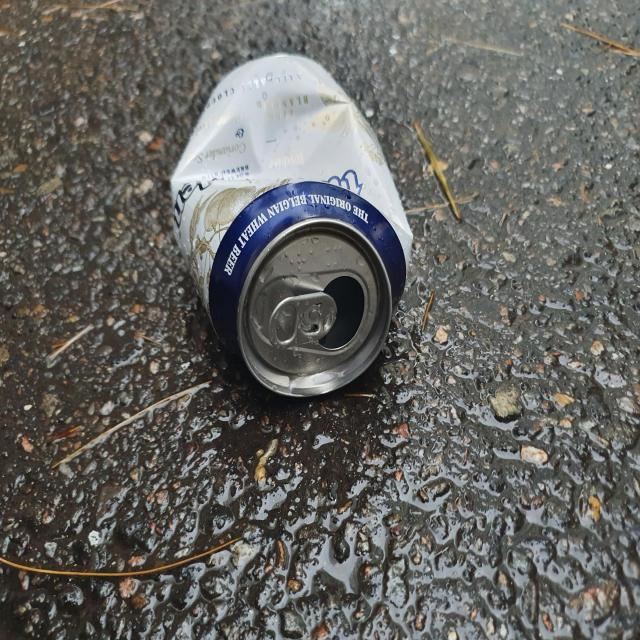can: (171, 53, 413, 397)
